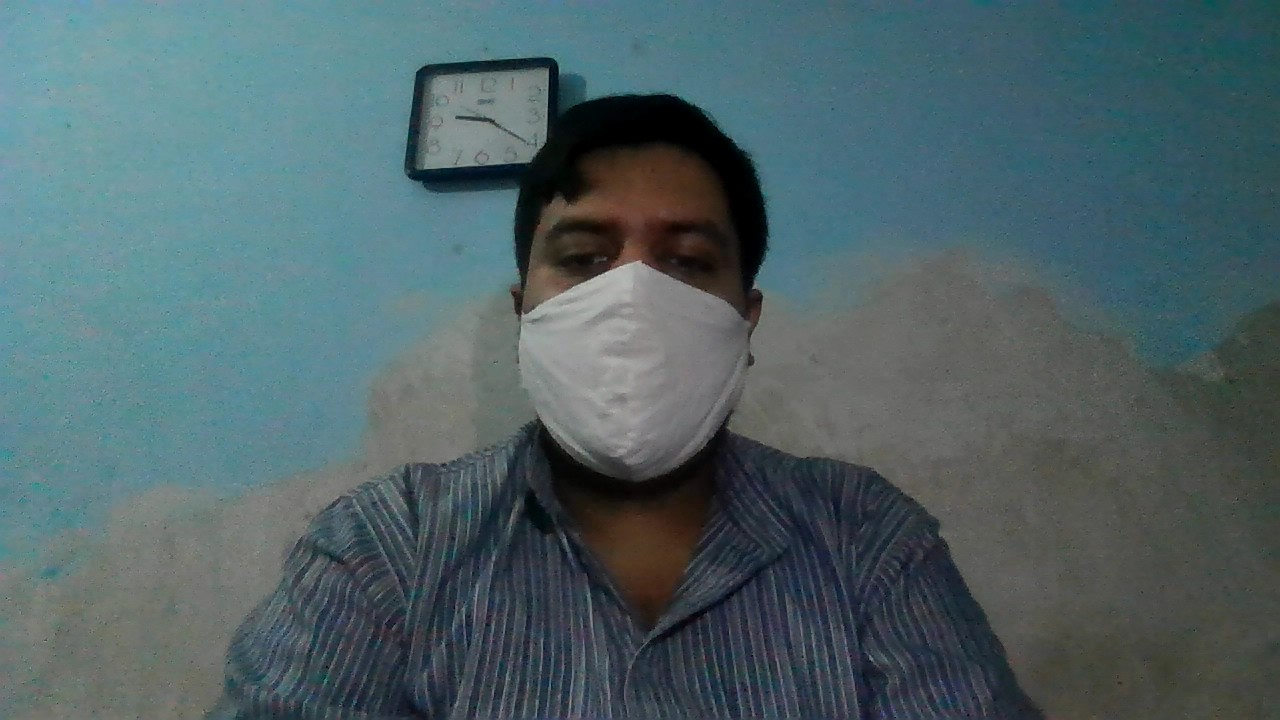Mask: (507, 274, 768, 487)
